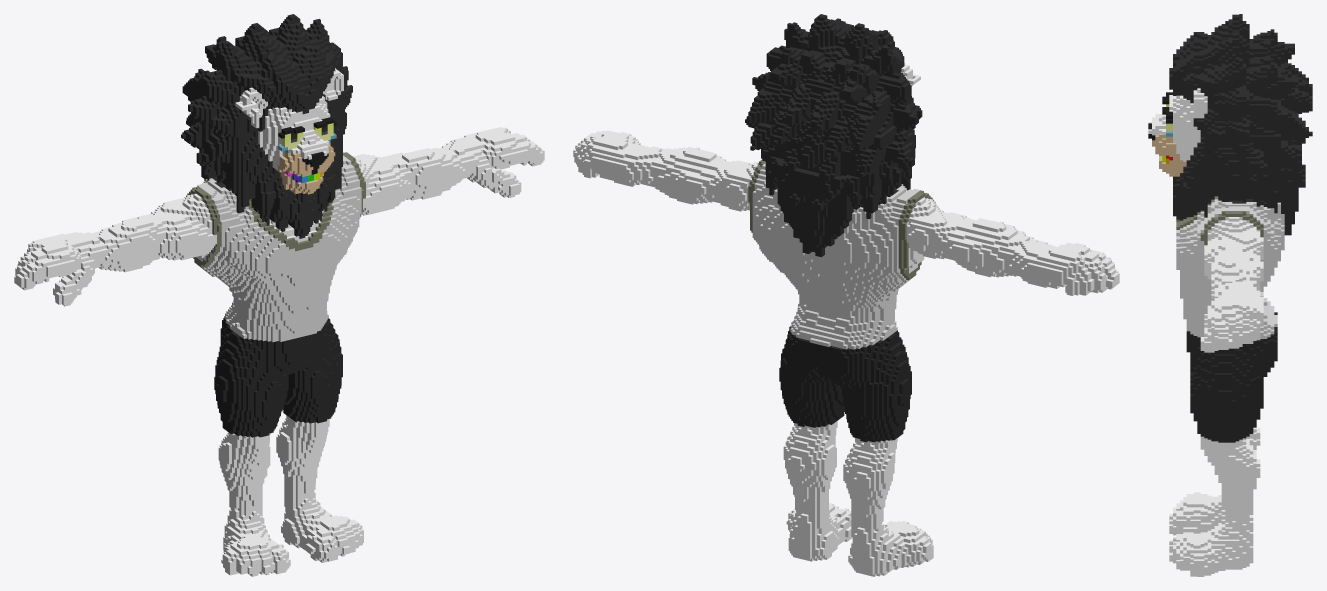
3 renders of one model, left to right at view 1: azimuth 30°, elevation 25°; view 2: azimuth 150°, elevation 25°; view 3: azimuth 270°, elevation 25°, orthographic. The views are drawn at different scales.
Parts seen in each view (by area): view 1: rainbow_grill; view 2: rainbow_grill; view 3: rainbow_grill.
Part boxes in pixels (x1,y1,x2,y2): rainbow_grill: (14, 14, 544, 576); rainbow_grill: (573, 14, 1119, 576); rainbow_grill: (1148, 14, 1312, 576).
Bounding box in the file's own units: 17.2 × 16.5 × 4.7.
6 materials, 6 textured.
